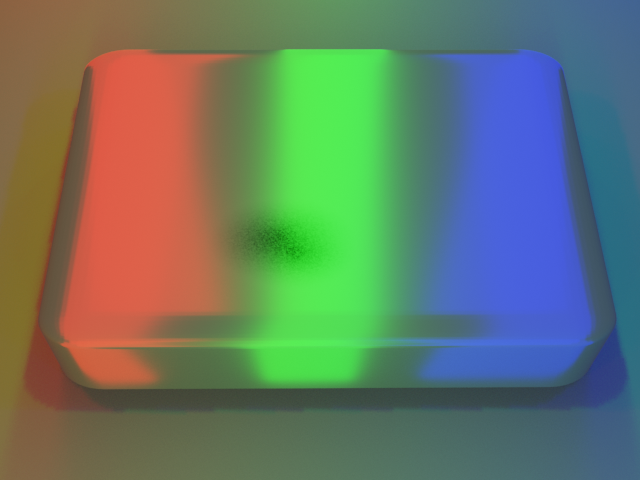stain: (173, 189, 404, 326)
